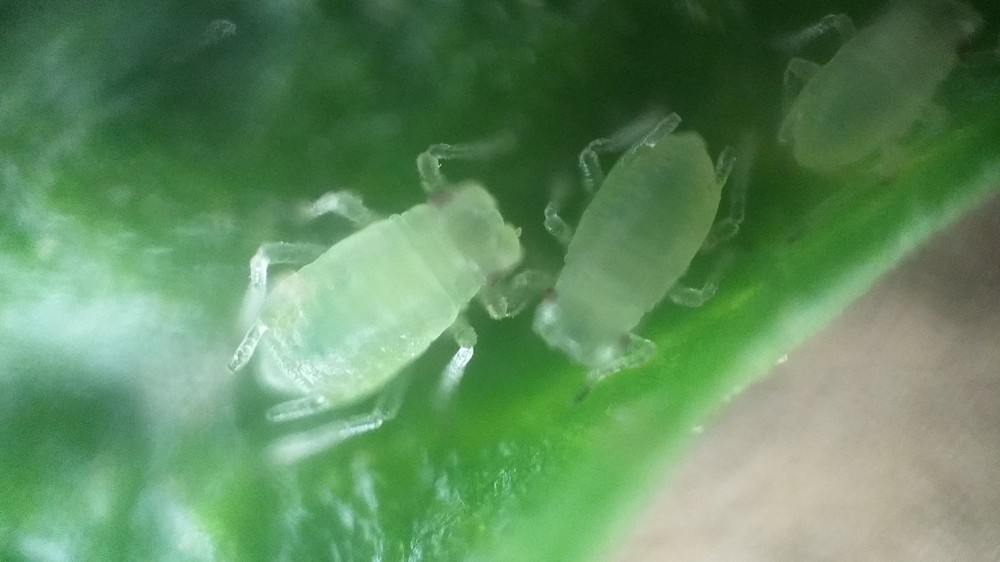Pulgon: (213, 133, 533, 477), (524, 115, 758, 414), (763, 1, 993, 186)
